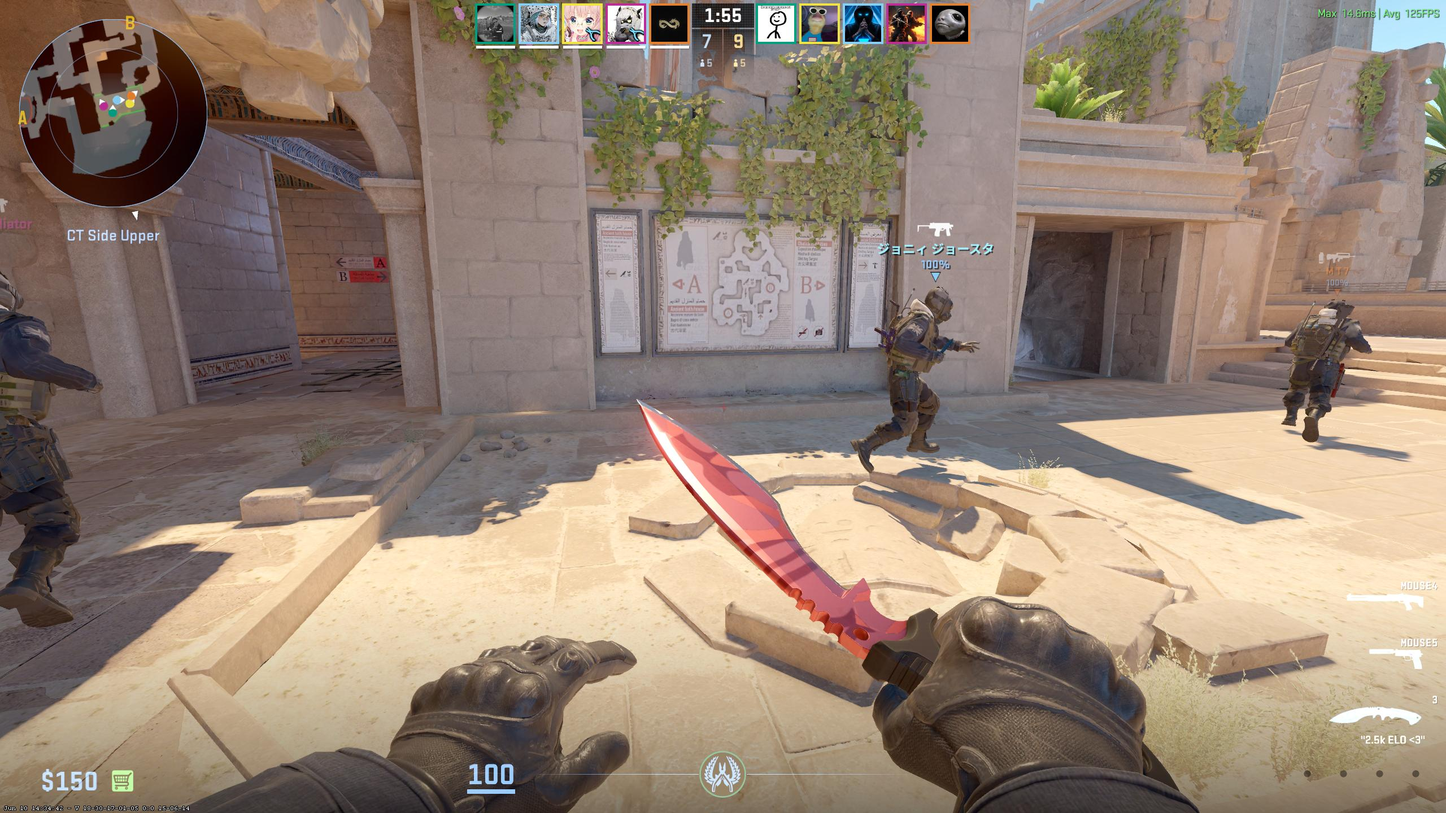CT: (0, 263, 100, 633), (858, 279, 948, 466), (1281, 291, 1374, 445)
